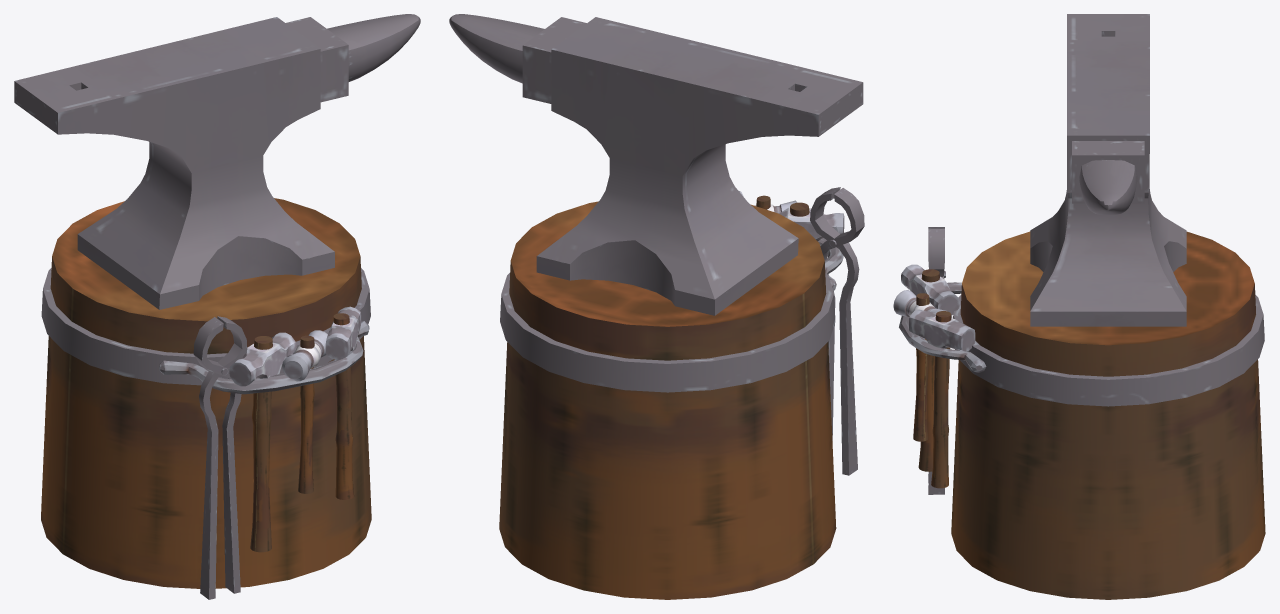
The model's file is Anvil_Log.gltf.
The picture shows the model from 3 angles, left to right: view 1: azimuth 30°, elevation 25°; view 2: azimuth 150°, elevation 25°; view 3: azimuth 270°, elevation 25°; orthographic projection. The views are drawn at different scales.
Parts seen in each view (by area): view 1: Anvil_Log; view 2: Anvil_Log; view 3: Anvil_Log.
Boxes of the visible parts, left/top/right/bottom form: Anvil_Log: left=14, top=14, right=420, bottom=599; Anvil_Log: left=449, top=14, right=864, bottom=599; Anvil_Log: left=893, top=14, right=1265, bottom=599.
Bounding box in the file's own units: 0.9293 × 1.07 × 0.8214.
Materials: 3 (3 with a texture image).
